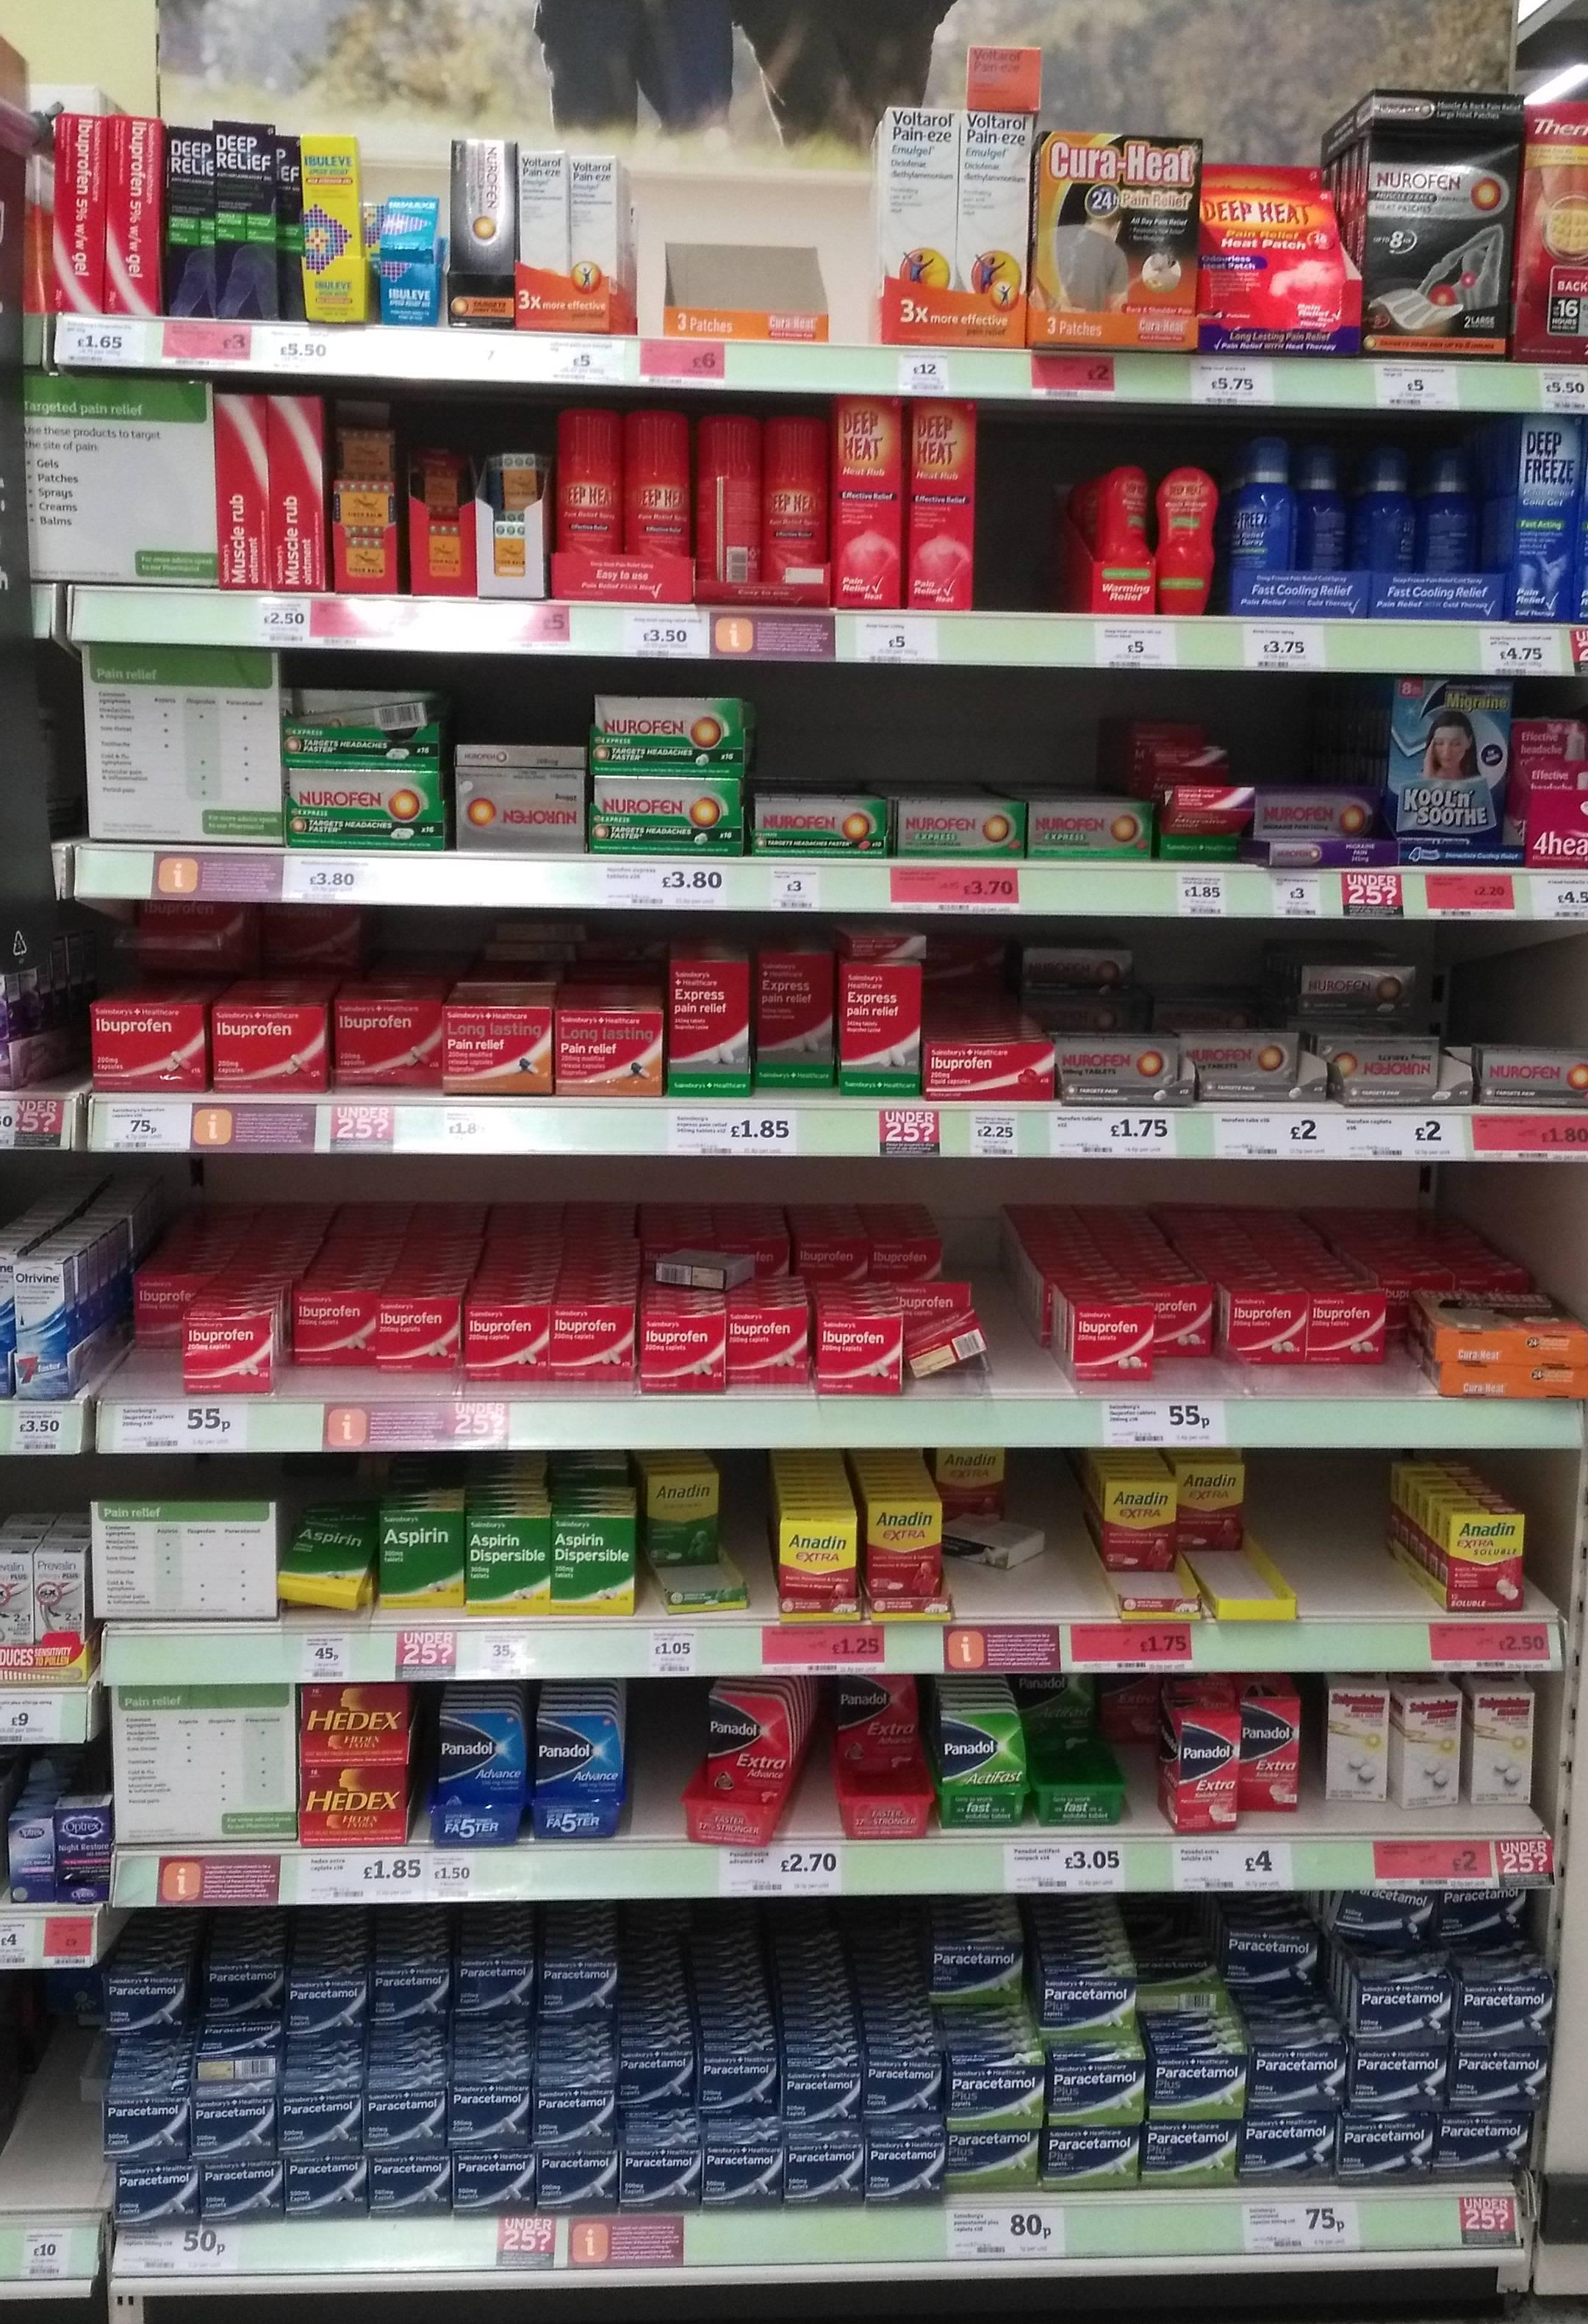empty: (980, 411, 1085, 622), (684, 164, 802, 313), (1288, 1473, 1394, 1603), (1003, 1173, 1042, 1390)
misalignment: (1408, 1286, 1588, 1415), (692, 1683, 814, 1838), (949, 1494, 1058, 1582)
